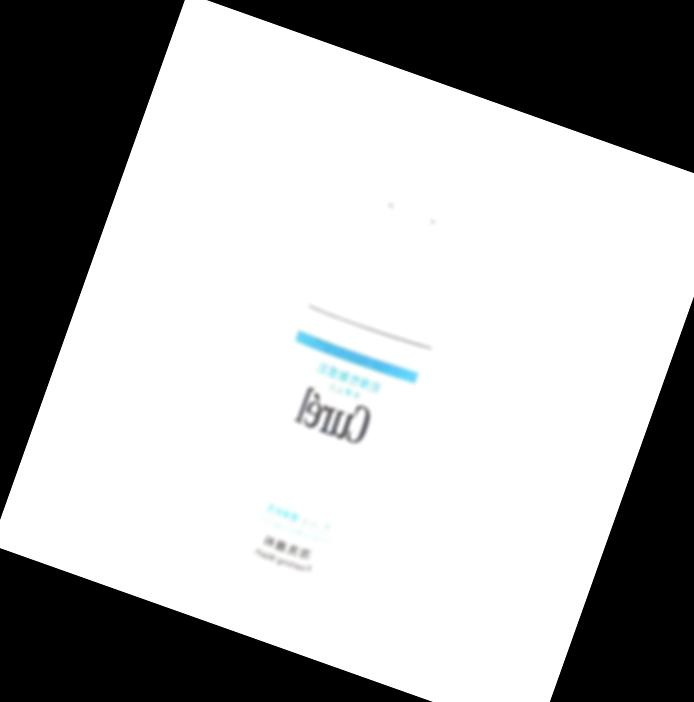cosmetic: (174, 93, 538, 649)
